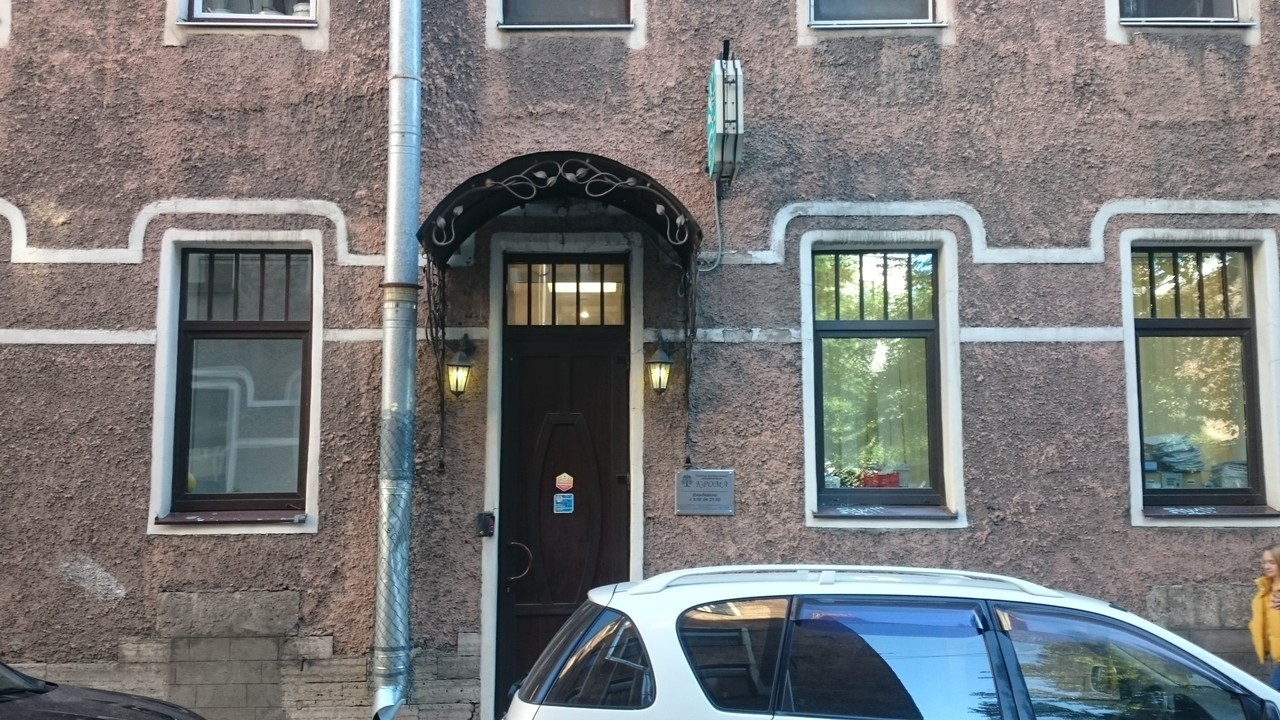cantilever: (699, 32, 747, 184)
door: (507, 356, 625, 689)
window: (172, 250, 318, 517), (1128, 247, 1264, 512), (810, 252, 936, 508)
